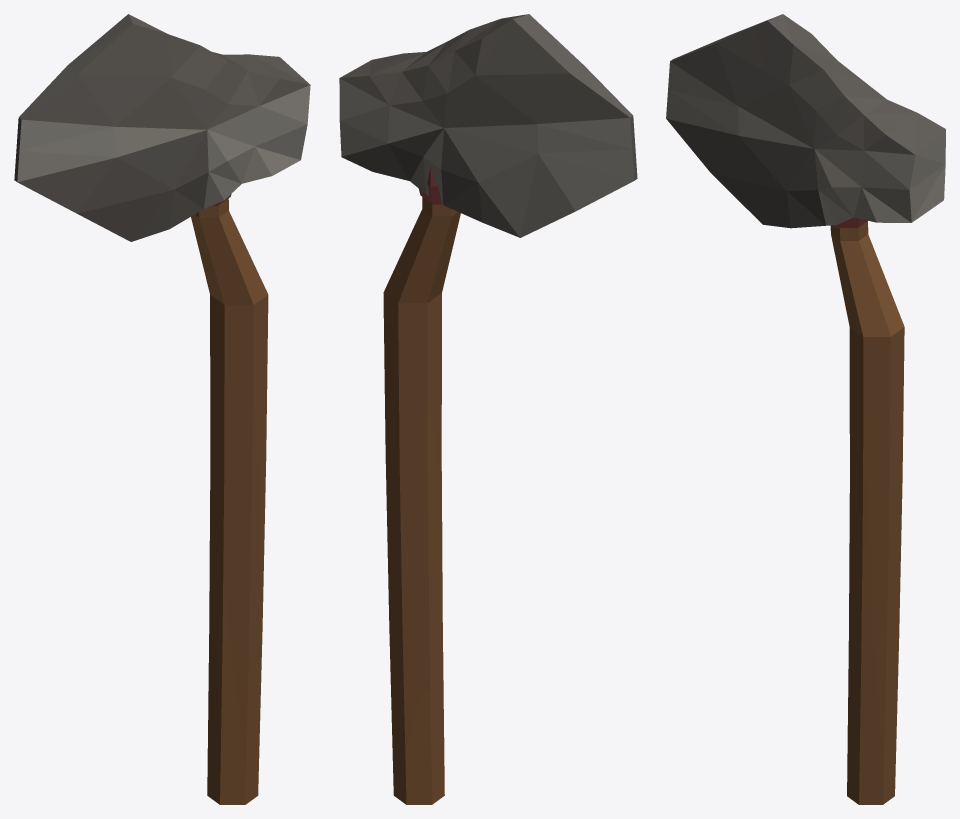
File: wpn_axe_haft_1p5x_86cabh907.fbx
3 renders of one model, left to right at view 1: azimuth 30°, elevation 25°; view 2: azimuth 150°, elevation 25°; view 3: azimuth 330°, elevation 25°, orthographic. The views are drawn at different scales.
Visible parts, largest first — view 1: wpn_axe_01; view 2: wpn_axe_01; view 3: wpn_axe_01.
Boxes of the visible parts, bbox=[...] form: wpn_axe_01: bbox=[14, 14, 310, 804]; wpn_axe_01: bbox=[339, 14, 637, 804]; wpn_axe_01: bbox=[666, 14, 945, 804].
Bounding box in the file's own units: 0.4315 × 0.1037 × 1.18.
